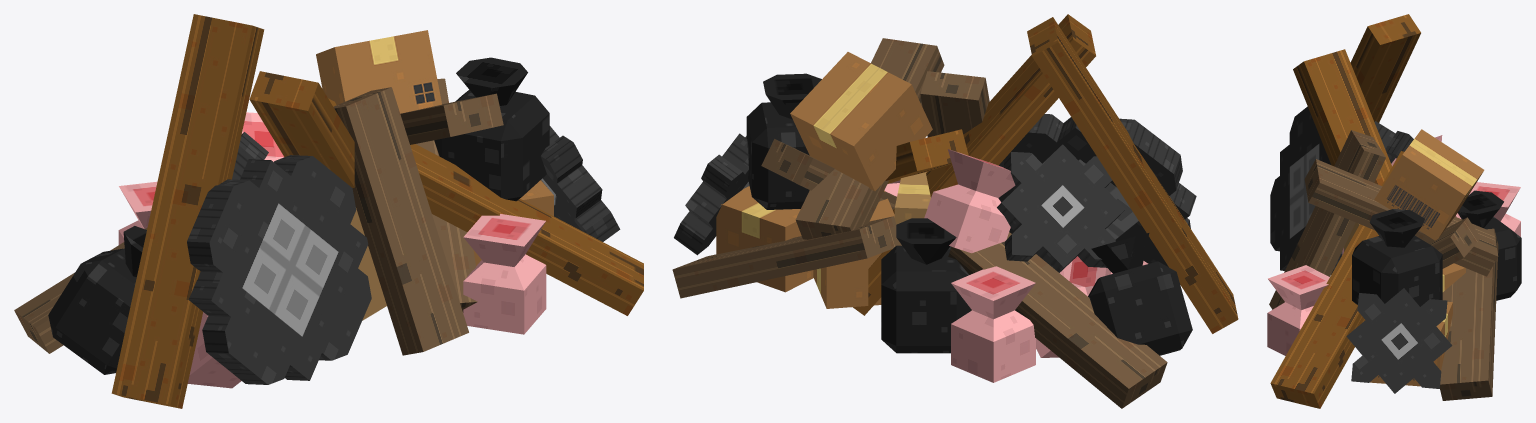
The model's file is C2_Garbage_02-3.FBX.
The picture shows the model from 3 angles, left to right: view 1: azimuth 30°, elevation 25°; view 2: azimuth 150°, elevation 25°; view 3: azimuth 270°, elevation 25°; orthographic projection. The views are drawn at different scales.
Parts seen in each view (by area): view 1: Box023, Box014, Box024, Box015, Box032, C2_Garbage_02-3, Box025, Box019, Box030, Box018, Box031, Box020 (+5 smaller); view 2: C2_Garbage_02-3, Box014, Box026, Box016, Box021, Box019, Box022, Box017, Box030, Box023, Box031, Box027 (+6 smaller); view 3: Box018, Box015, C2_Garbage_02-3, Box032, Box017, Box030, Box023, Box031, Box024, Box014, Box025, Box021 (+3 smaller).
Boxes of the visible parts, x1=… form: Box023: x1=187, y1=155, x2=371, y2=384; Box014: x1=111, y1=14, x2=264, y2=408; Box024: x1=333, y1=87, x2=468, y2=355; Box015: x1=328, y1=98, x2=643, y2=315; Box032: x1=434, y1=57, x2=549, y2=201; C2_Garbage_02-3: x1=316, y1=30, x2=553, y2=320; Box025: x1=463, y1=214, x2=546, y2=334; Box019: x1=48, y1=226, x2=146, y2=374; Box030: x1=249, y1=71, x2=354, y2=187; Box018: x1=541, y1=126, x2=620, y2=241; Box031: x1=400, y1=93, x2=503, y2=144; Box020: x1=416, y1=78, x2=477, y2=312; C2_Garbage_02-3: x1=716, y1=52, x2=971, y2=310; Box014: x1=1027, y1=17, x2=1238, y2=333; Box026: x1=997, y1=144, x2=1125, y2=272; Box016: x1=948, y1=232, x2=1167, y2=408; Box021: x1=881, y1=218, x2=971, y2=353; Box019: x1=1088, y1=233, x2=1192, y2=355; Box022: x1=951, y1=266, x2=1035, y2=382; Box017: x1=672, y1=216, x2=901, y2=298; Box030: x1=852, y1=14, x2=1095, y2=315; Box023: x1=998, y1=114, x2=1196, y2=267; Box031: x1=795, y1=38, x2=944, y2=239; Box027: x1=924, y1=149, x2=1015, y2=253; Box018: x1=1346, y1=288, x2=1452, y2=393; Box015: x1=1270, y1=151, x2=1404, y2=408; C2_Garbage_02-3: x1=1344, y1=129, x2=1484, y2=386; Box032: x1=1352, y1=209, x2=1442, y2=306; Box017: x1=1440, y1=228, x2=1498, y2=400; Box030: x1=1293, y1=49, x2=1391, y2=185; Box023: x1=1270, y1=106, x2=1342, y2=274; Box031: x1=1304, y1=159, x2=1498, y2=276; Box024: x1=1269, y1=130, x2=1385, y2=309; Box014: x1=1350, y1=14, x2=1420, y2=122; Box025: x1=1267, y1=265, x2=1329, y2=355; Box021: x1=1457, y1=190, x2=1521, y2=300.
Size of the model in its own units: 226 by 138 by 119.
1 material, 1 textured.
